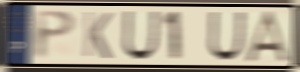1: (162, 9, 183, 63)
A: (242, 9, 294, 65)
K: (82, 10, 114, 61)
P: (33, 8, 78, 62)
U: (206, 10, 247, 63), (121, 9, 161, 62)
